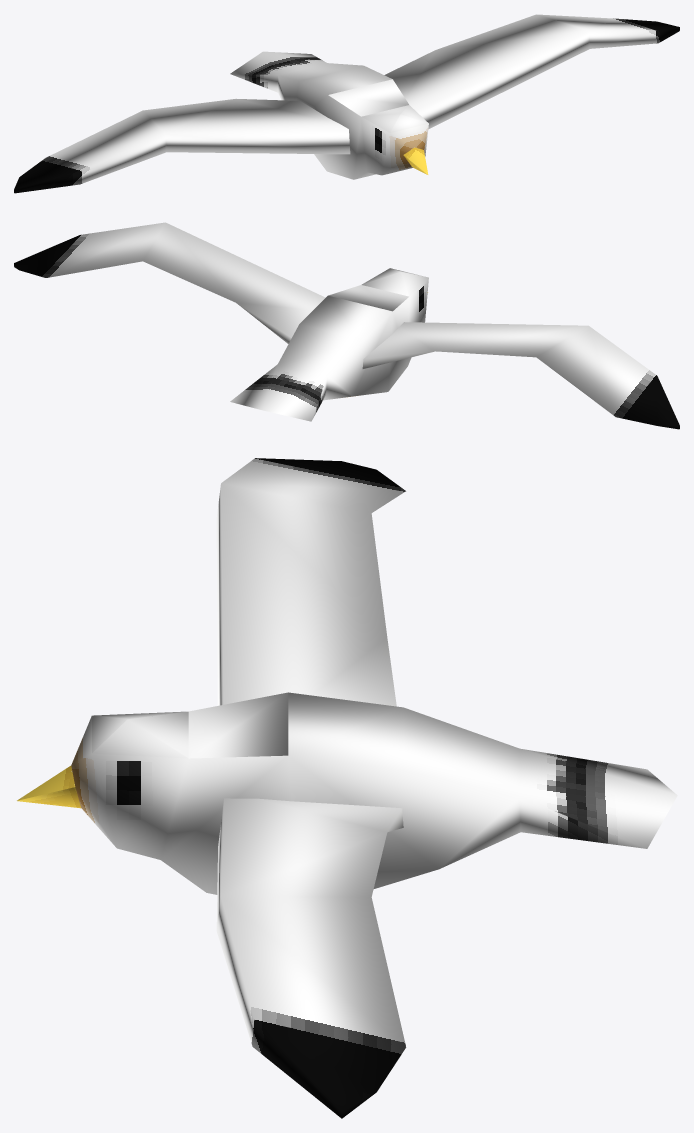
File: marti.obj
3 views of the same model, one above another, from view 1: azimuth 30°, elevation 25°; view 2: azimuth 150°, elevation 25°; view 3: azimuth 270°, elevation 25° (orthographic). The views are drawn at different scales.
Parts seen in each view (by area): view 1: Seagull; view 2: Seagull; view 3: Seagull.
Part boxes in pixels (x1=…): Seagull: x1=14, y1=14, x2=679, y2=193; Seagull: x1=14, y1=222, x2=679, y2=429; Seagull: x1=17, y1=458, x2=677, y2=1118.
Bounding box in the file's own units: 2 × 0.294 × 0.8616.
Materials: 1 (1 with a texture image).
